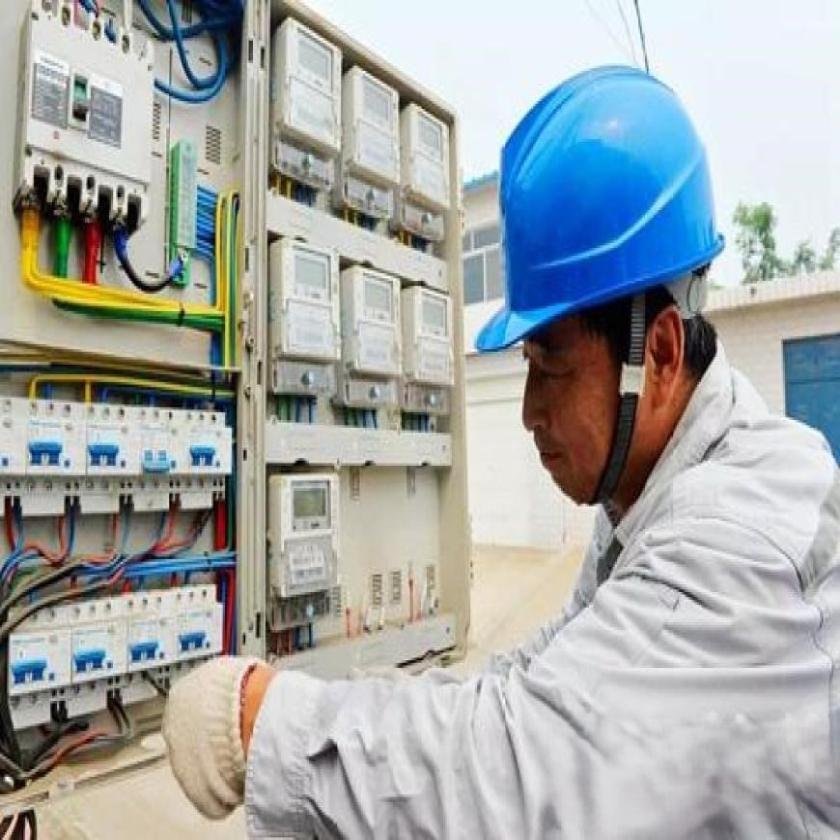Con_casco: (462, 56, 723, 536)
